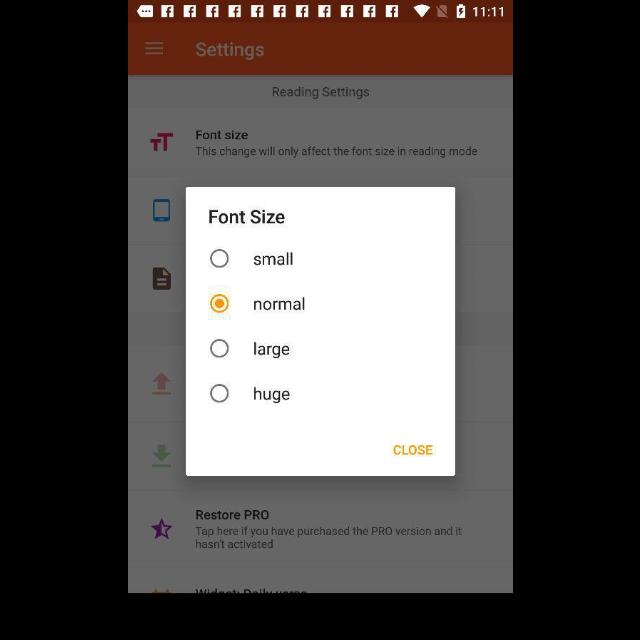checkbox: (209, 250, 227, 268), (210, 294, 228, 312), (209, 339, 227, 357), (209, 384, 227, 402)
icon: (151, 518, 173, 540), (151, 444, 171, 468), (152, 268, 172, 290), (152, 372, 170, 396), (144, 42, 164, 56)
image: (152, 199, 170, 223), (150, 134, 172, 152)
panel: (186, 188, 454, 477)
text: (194, 527, 460, 549), (194, 147, 476, 159), (272, 86, 368, 100), (194, 41, 264, 60), (209, 210, 285, 224), (196, 510, 268, 520), (253, 297, 304, 311), (252, 386, 290, 404), (254, 342, 290, 358), (254, 252, 292, 266), (196, 130, 248, 140), (392, 444, 432, 456)
textbutton: (392, 444, 432, 456)
uppertaskbar: (128, 1, 512, 23)
